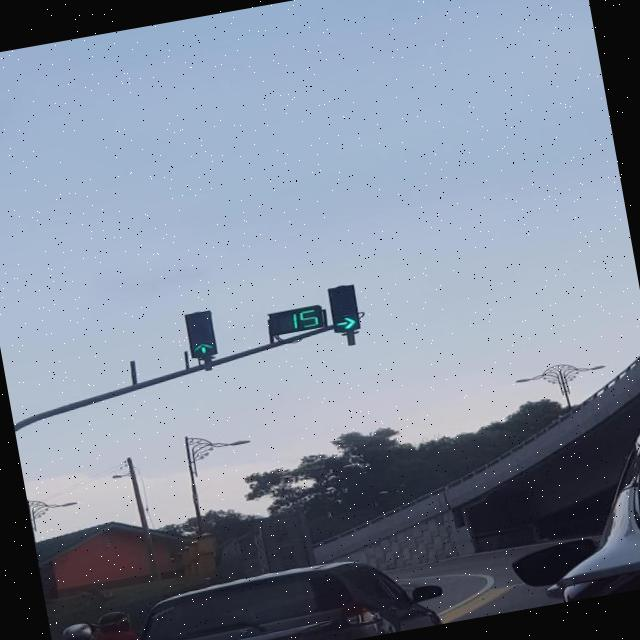green_light: (182, 310, 219, 360), (326, 283, 362, 333)
